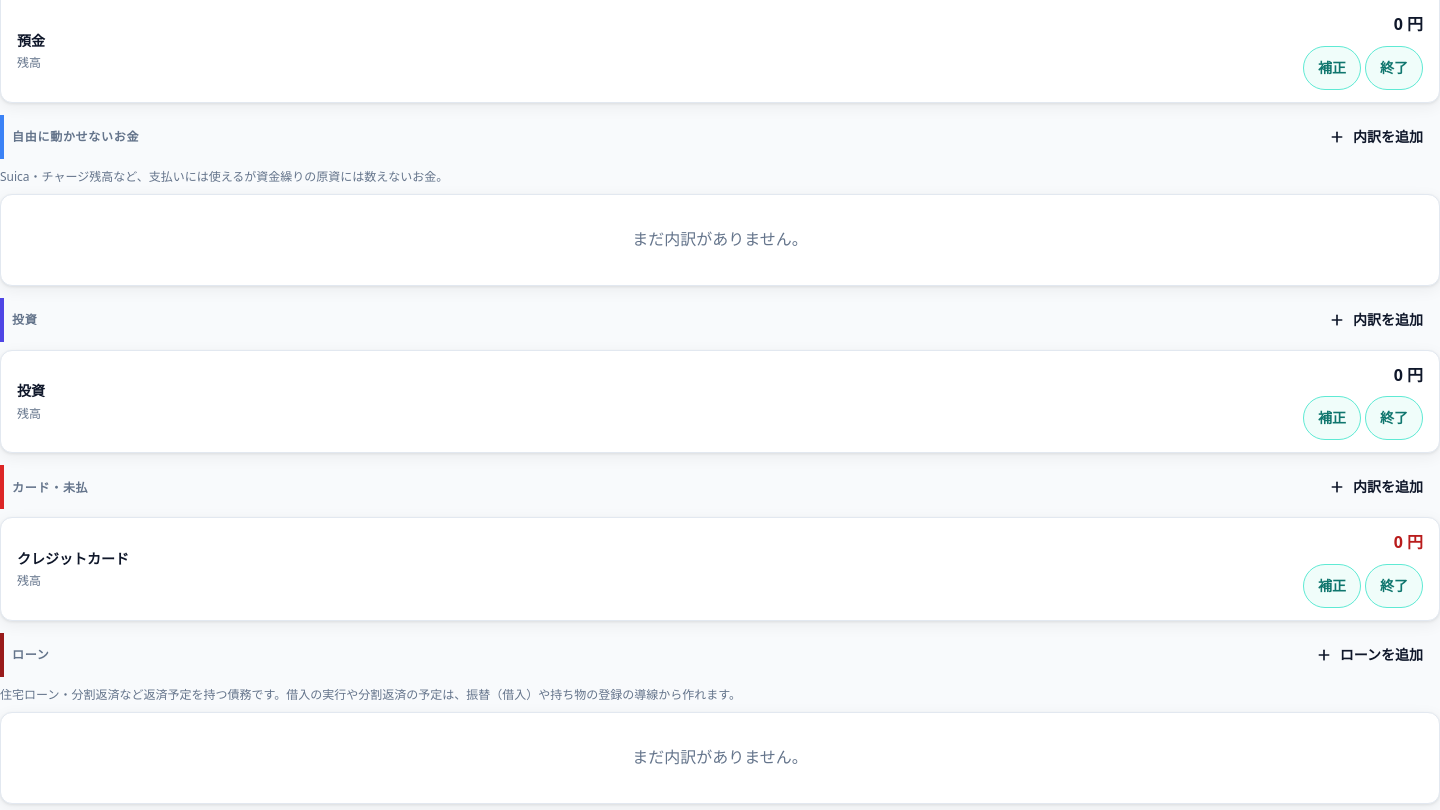
Test case: 投資科目の想定利回り編集 › 片方だけの設定はエラーで保存されない（セット検証）
(page scrolled)
Click the button "投資 残高 0 円 補正 終了". click: (31,391)
box: [1, 351, 1439, 452]
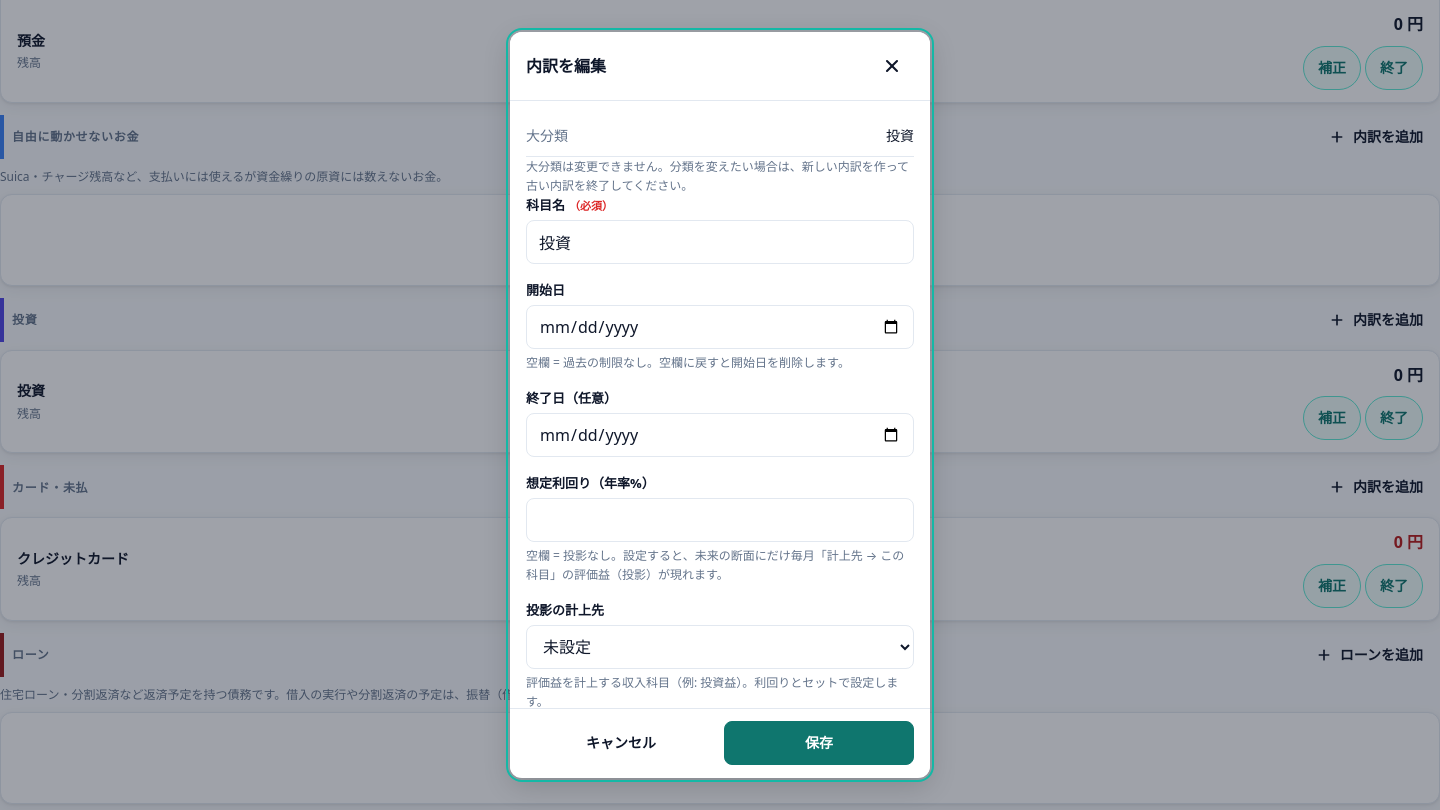
Type "3" into the field labelled "想定利回り（年率%）". click: (720,520)
box: [526, 498, 914, 542]
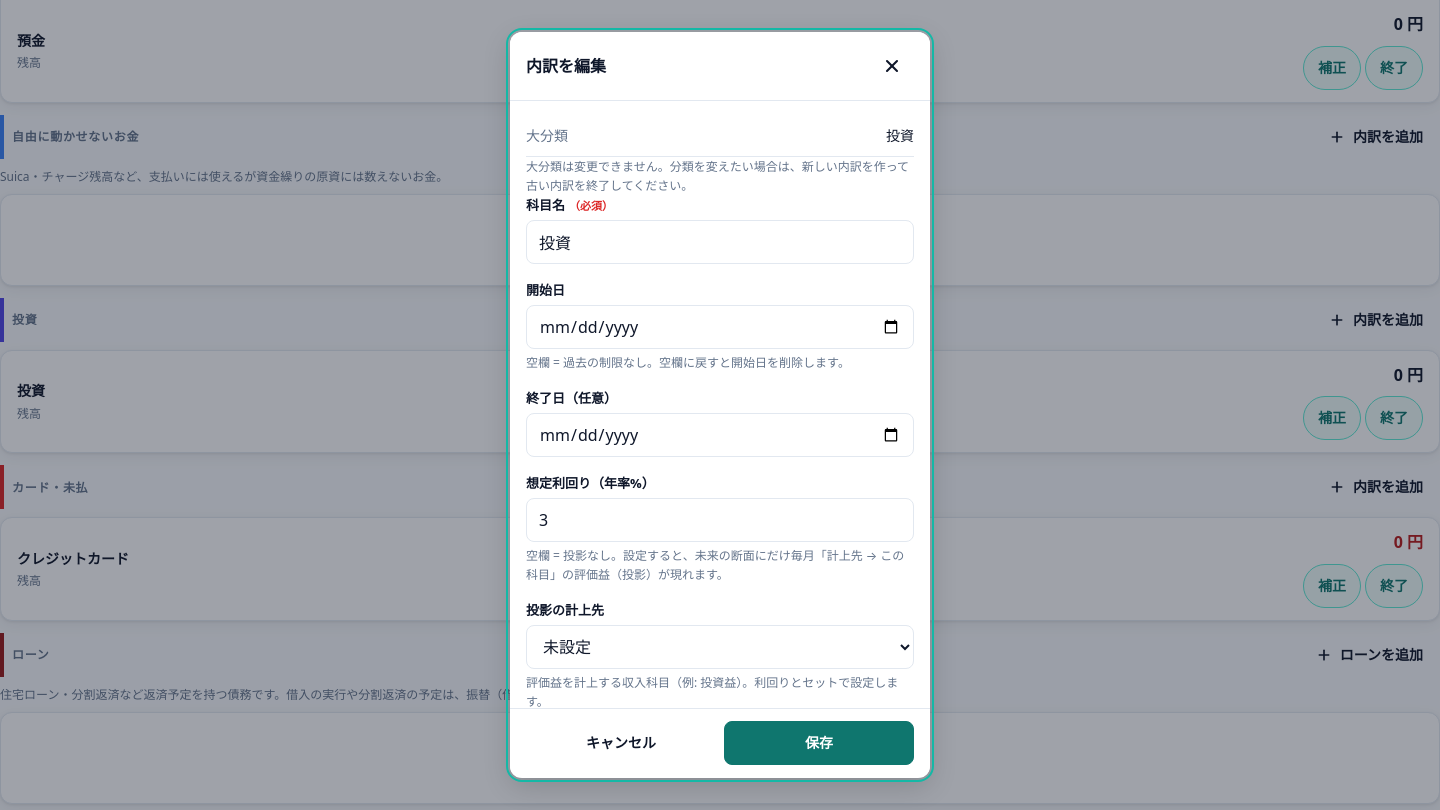
Click the button "保存". click: (819,744)
box: [724, 722, 914, 766]
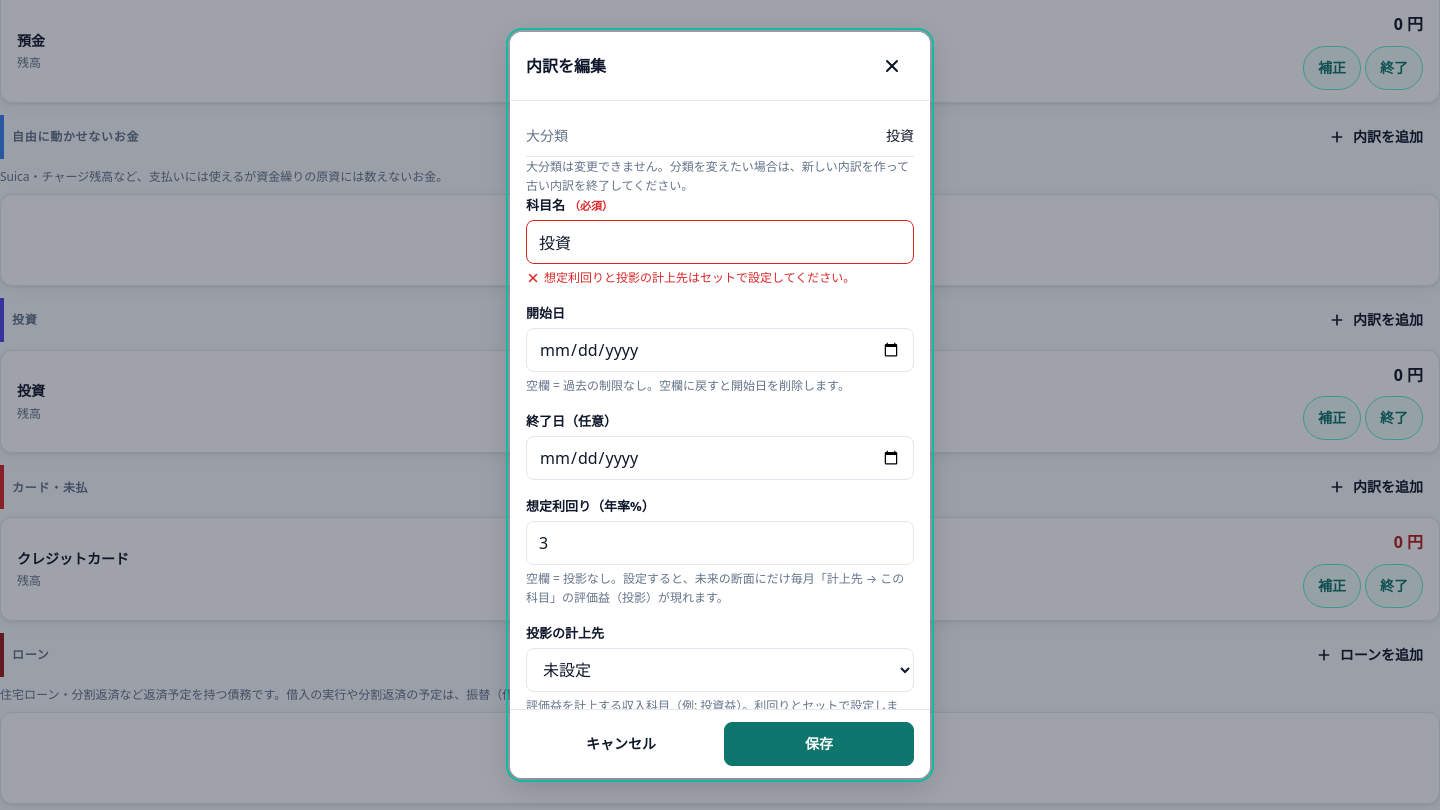
Now the text "想定利回りと投影の計上先はセットで設定してください。" is shown, box [526, 269, 855, 286]
